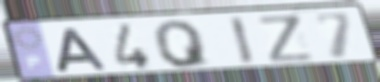4: (112, 23, 153, 72)
7: (313, 11, 355, 61)
A: (54, 27, 111, 74)
I: (226, 15, 257, 67)
Q: (150, 19, 213, 69)
Z: (255, 13, 318, 64)
